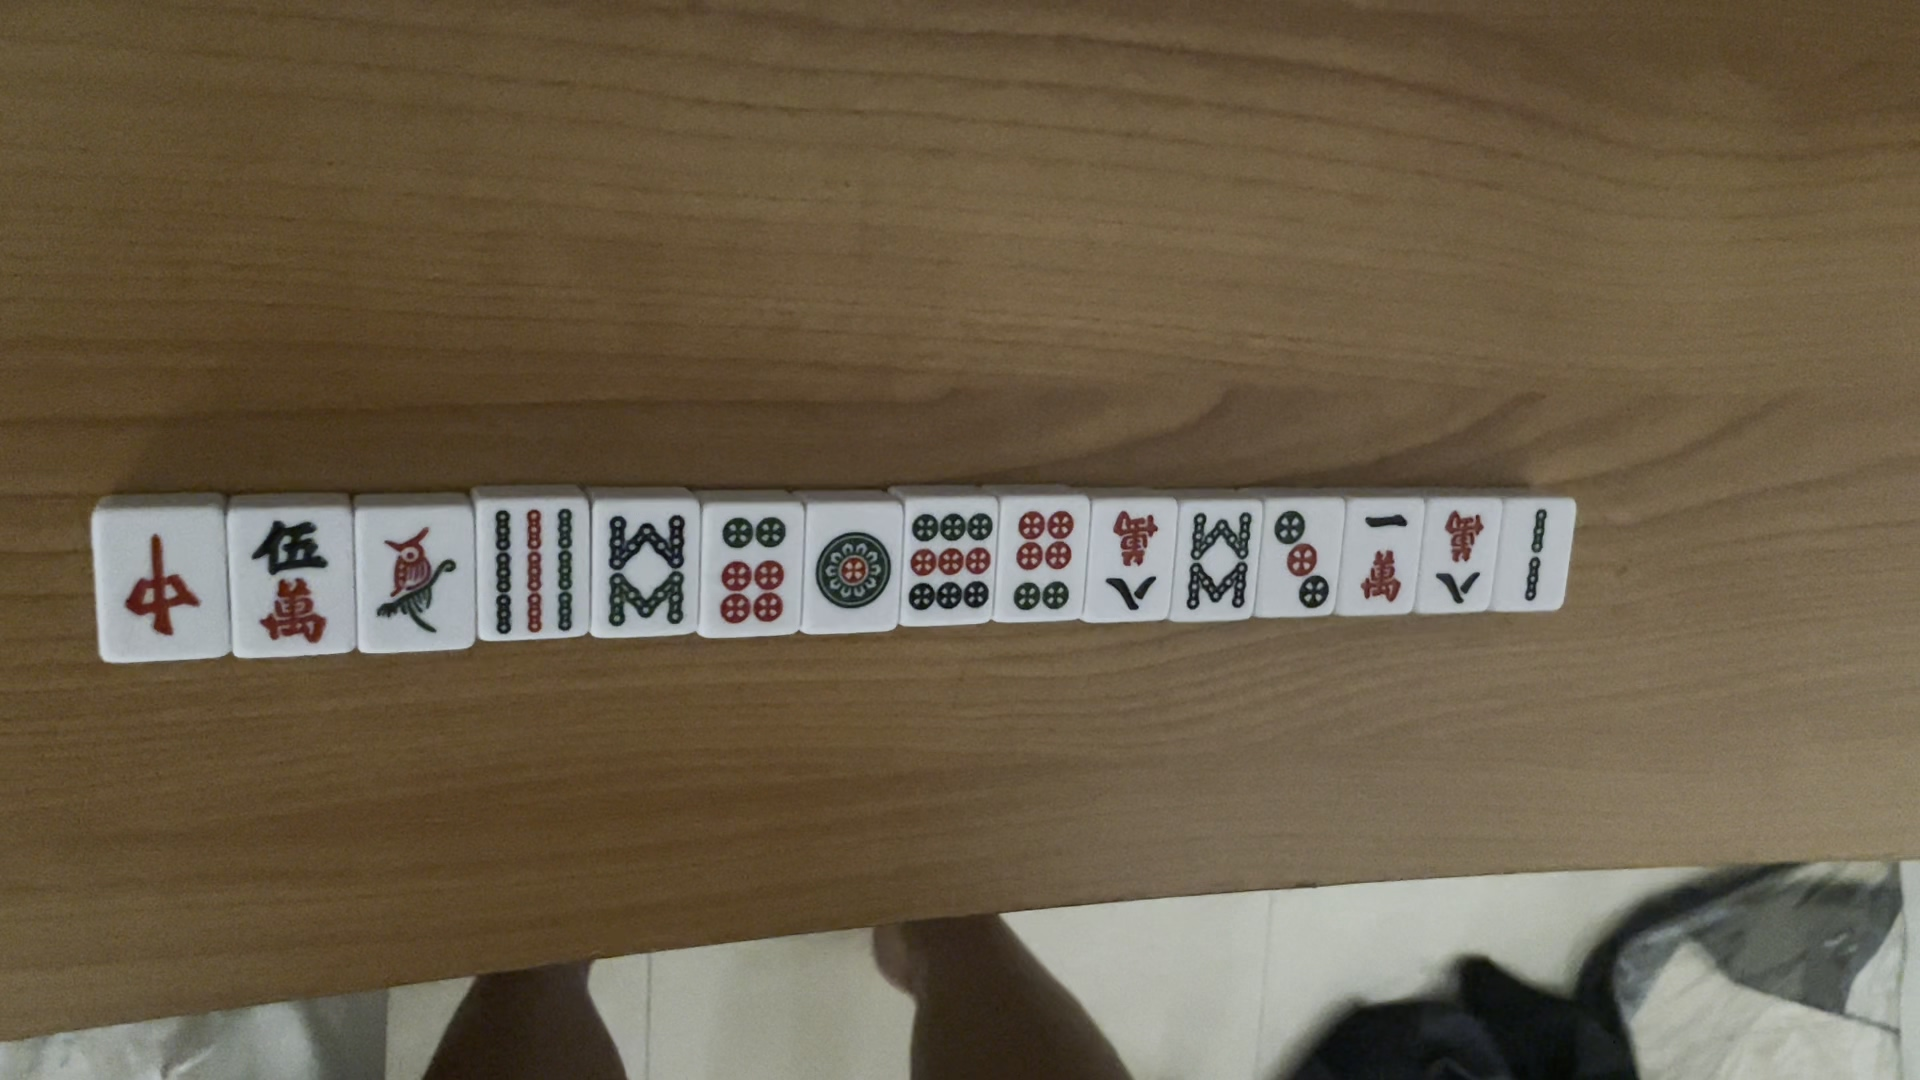b-1: (369, 518, 464, 641)
b-2: (1513, 505, 1553, 609)
b-8: (603, 506, 696, 633), (1184, 509, 1261, 622)
b-9: (483, 501, 580, 630)
c-1: (1340, 498, 1414, 611)
c-5: (243, 504, 339, 653)
c-8: (1102, 498, 1167, 609), (1432, 508, 1484, 604)
d-1: (807, 521, 895, 615)
d-3: (1271, 506, 1335, 612)
d-6: (709, 508, 794, 628), (1002, 504, 1084, 615)
d-9: (905, 512, 993, 615)
honors-red: (115, 527, 190, 644)
